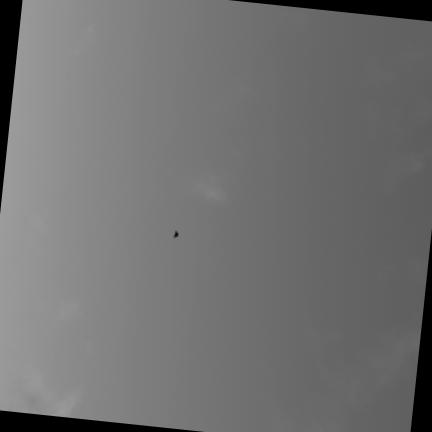Shahed: (173, 231, 177, 237)
